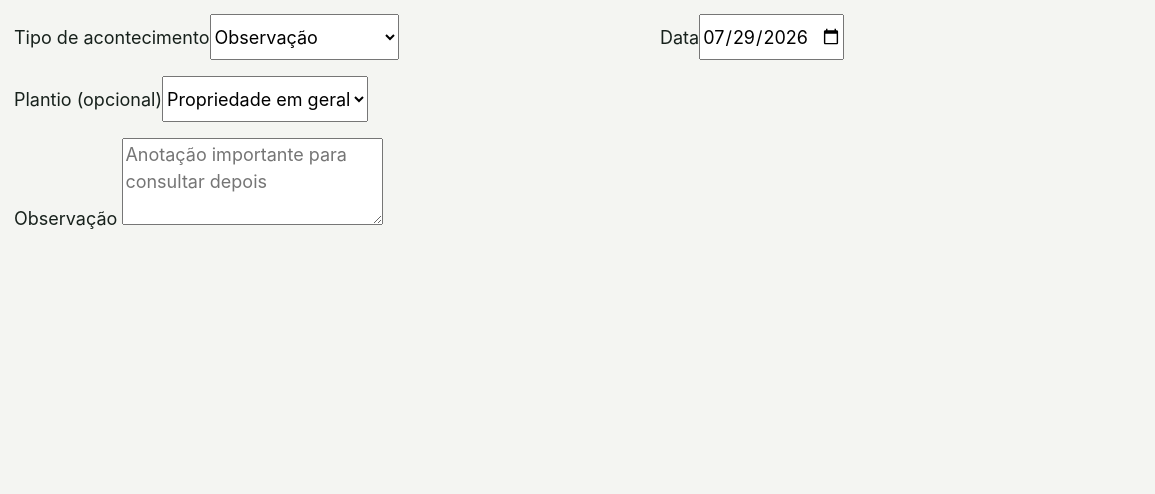
Test: DynamicDiaryFields › mostra somente os campos relacionados ao tipo escolhido
Select "Chuva" in the dropdown labelled "Tipo de acontecimento" at {"x": 304, "y": 37}, box top-left (210, 14), bottom-right (398, 60)
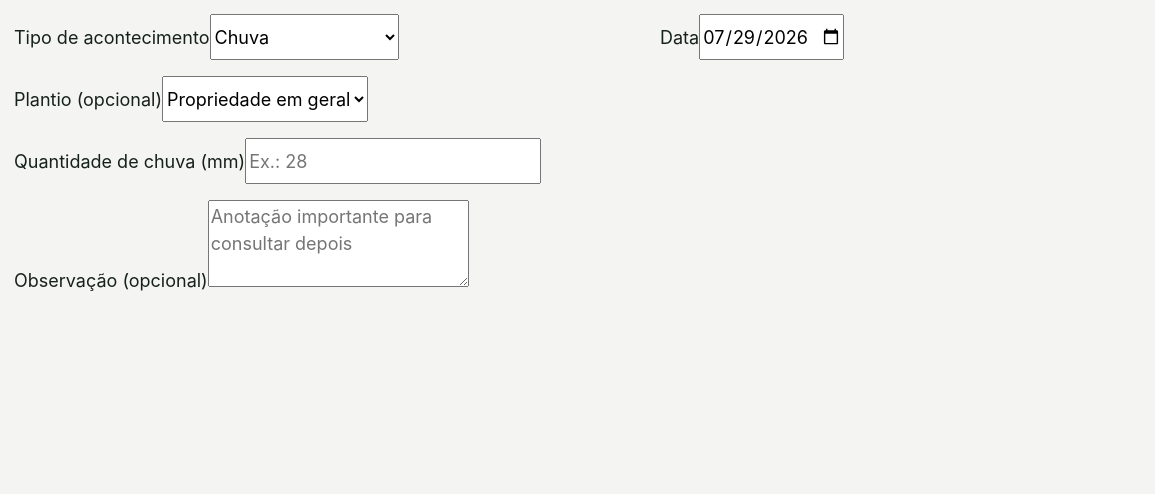
Expected: the text "Quantidade de chuva (mm)" is shown, top-left (14, 150), bottom-right (245, 172)
Select "Compra de produto" in the dropdown labelled "Tipo de acontecimento" at {"x": 304, "y": 37}, box top-left (210, 14), bottom-right (398, 60)
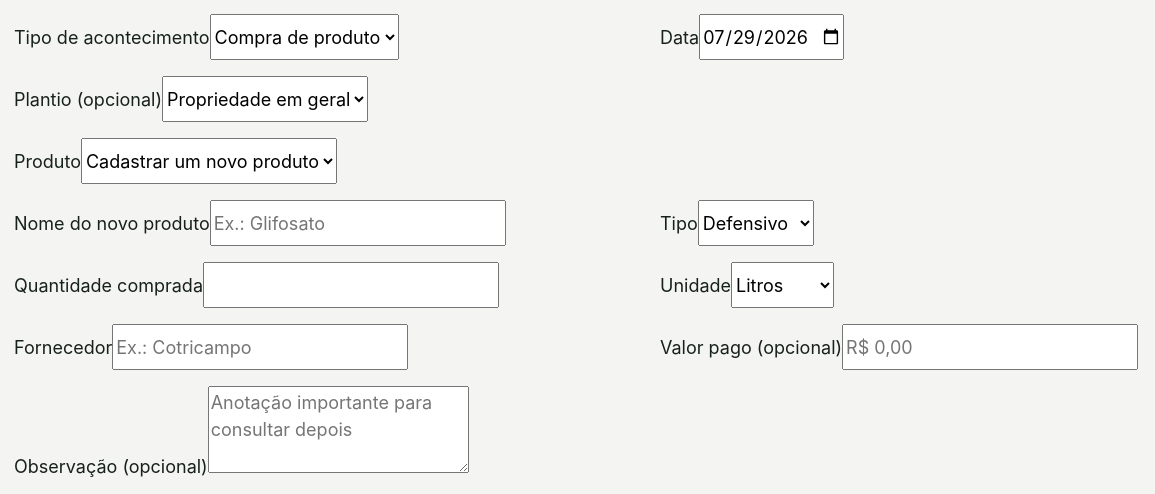
Expected: the text "Nome do novo produto" is shown, top-left (14, 212), bottom-right (210, 234)
Expected: the text "Quantidade comprada" is shown, top-left (14, 274), bottom-right (203, 296)
Expected: the text "Valor pago (opcional)" is shown, top-left (660, 336), bottom-right (842, 358)
